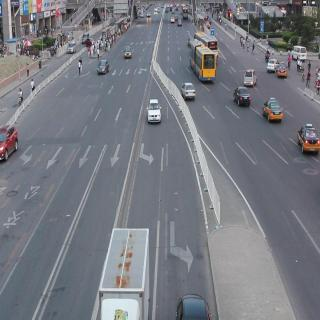BigCar: (95, 221, 156, 320), (189, 41, 217, 84)
Car: (0, 122, 18, 161), (298, 122, 318, 152), (265, 95, 282, 124), (232, 86, 252, 108), (179, 80, 197, 102), (148, 99, 161, 125), (292, 42, 307, 64), (266, 54, 278, 74), (98, 57, 109, 77), (244, 69, 256, 87), (278, 61, 288, 81), (66, 38, 76, 54), (81, 32, 91, 48), (124, 45, 134, 60), (177, 17, 185, 30)
